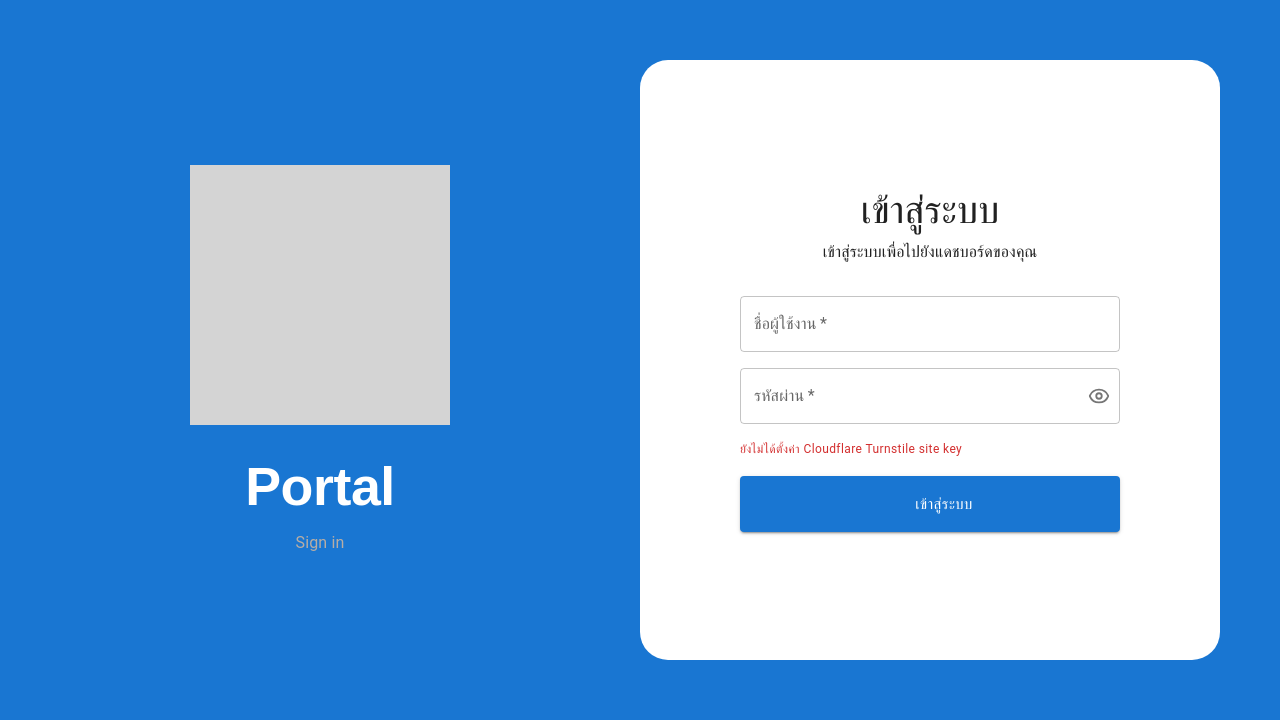
it: LoginScreen › switches the animated visibility icon with the password state
What coordinates should you click on to do the following:
click the button named "ดูรหัสผ่าน"
I would click on:
 (1099, 396)
Its box is [1080, 378, 1118, 416].
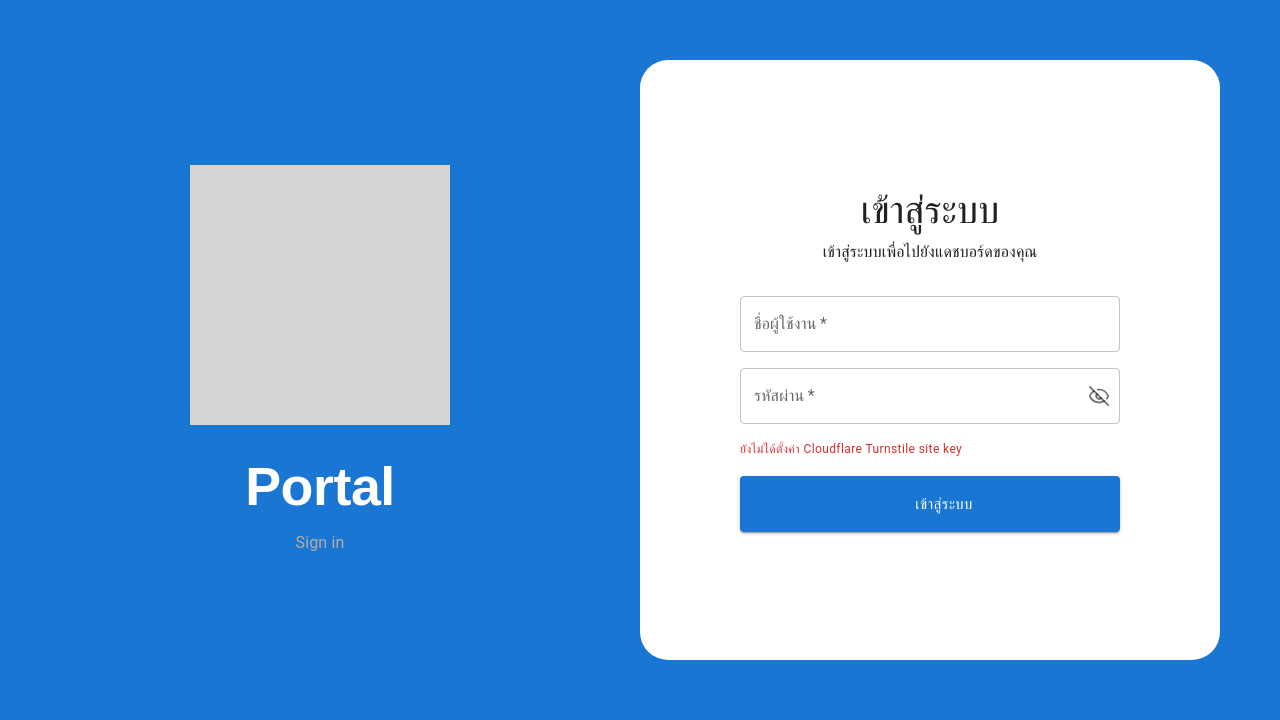
Expected: the button named "ซ่อนรหัสผ่าน" is shown, [1080, 378, 1118, 416]
